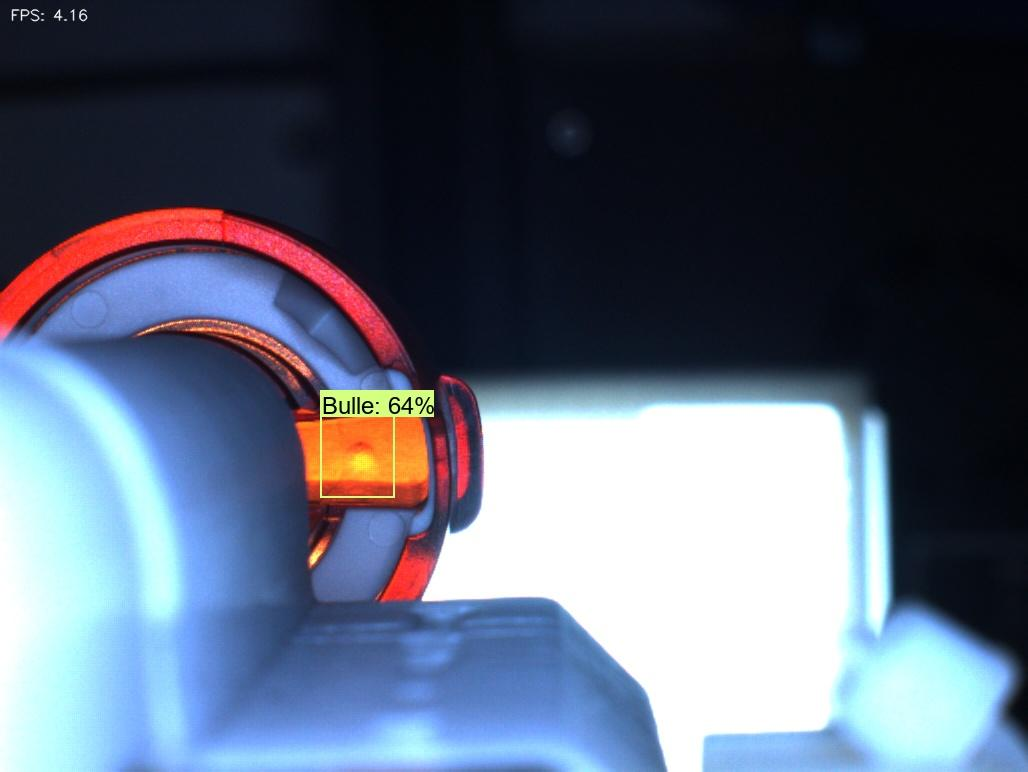Retassure: (322, 424, 391, 494)
